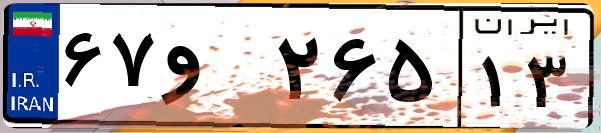1: (475, 38, 525, 113)
2: (270, 28, 330, 110)
3: (525, 38, 570, 115)
5: (385, 28, 445, 110)
6: (330, 28, 385, 110), (57, 26, 110, 100)
7: (110, 28, 158, 98)
و: (158, 20, 270, 120)
